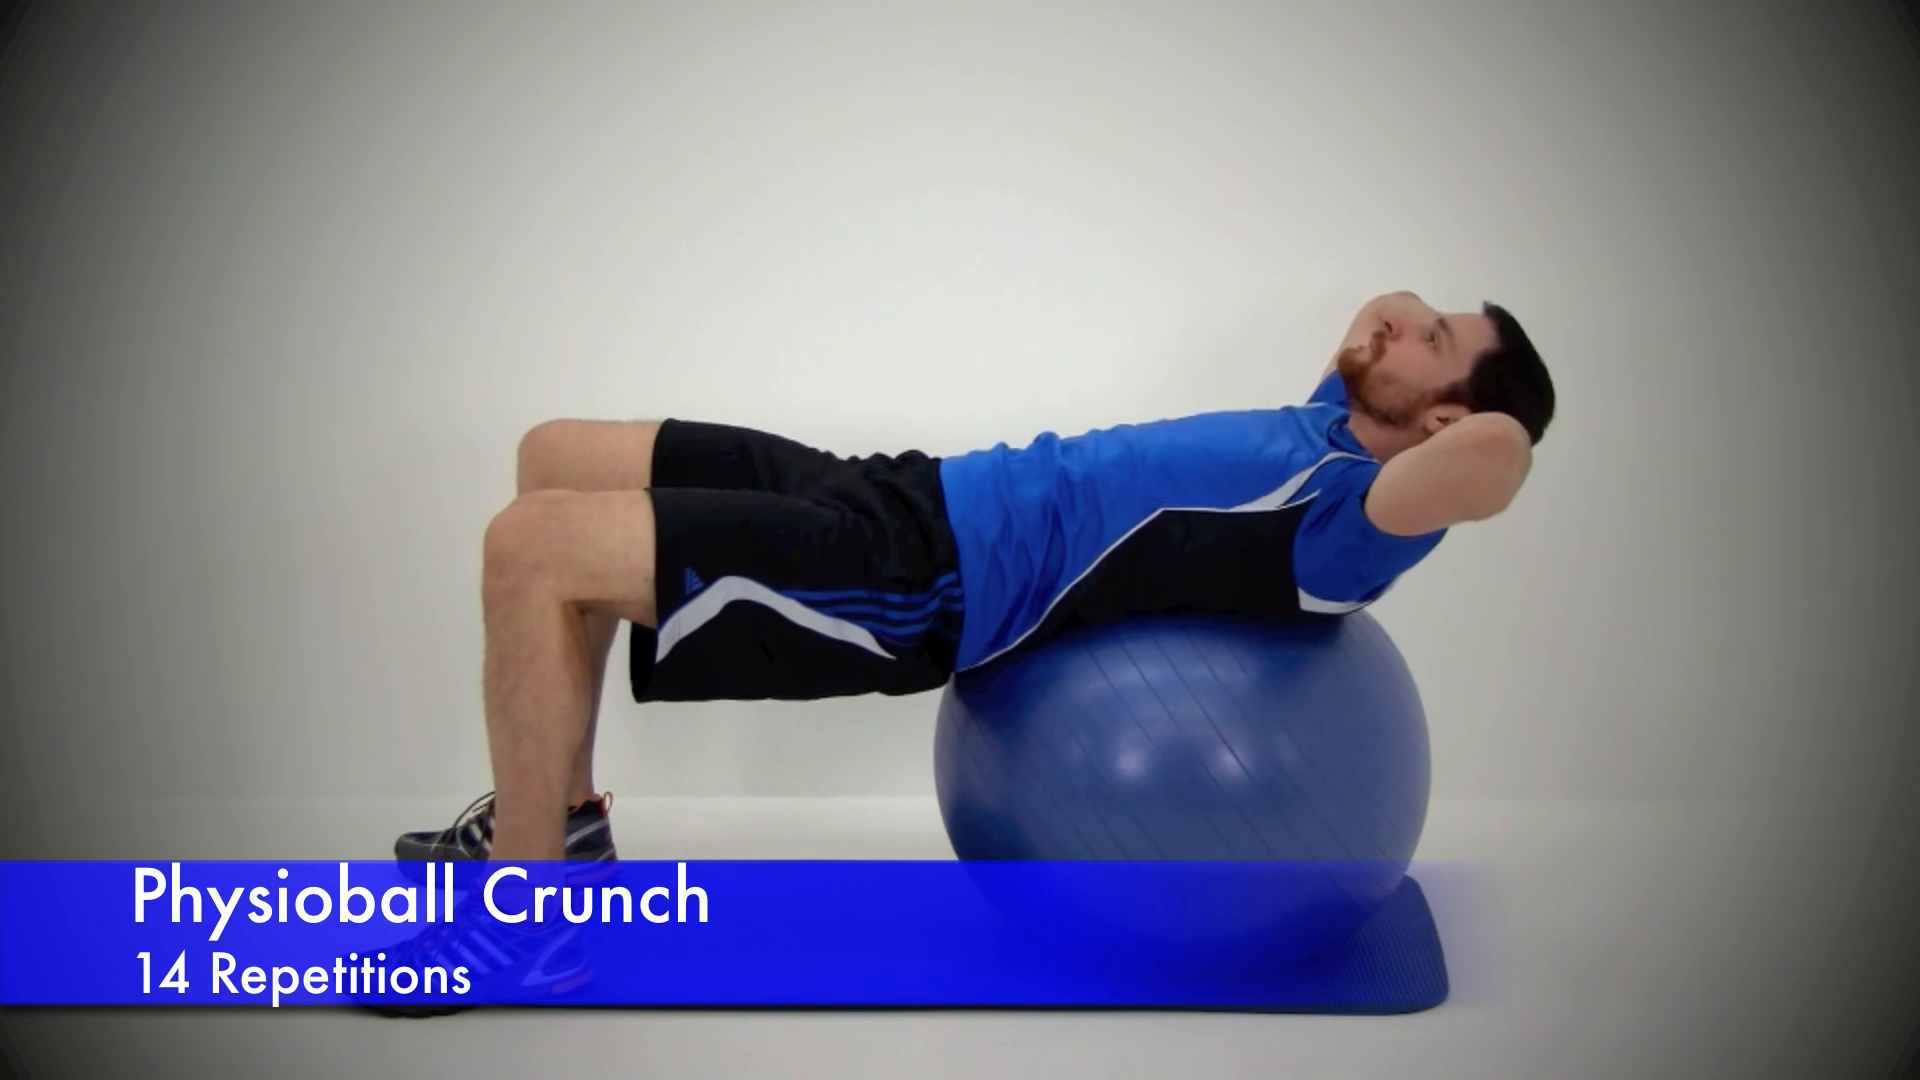yogaball: (927, 576, 1458, 982)
